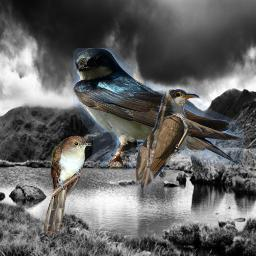Cuckoo: (135, 89, 215, 190), (44, 135, 92, 235)
Swallow: (73, 48, 244, 172)
